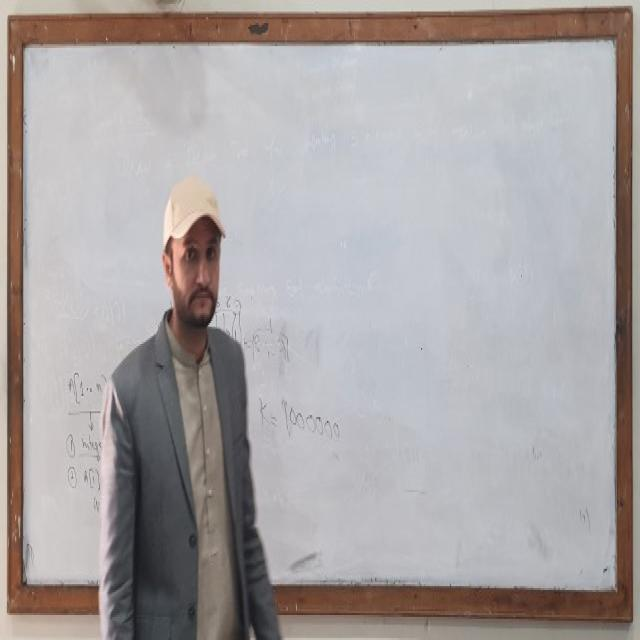Instructor: (117, 165, 255, 640)
White-board: (12, 24, 627, 612)
